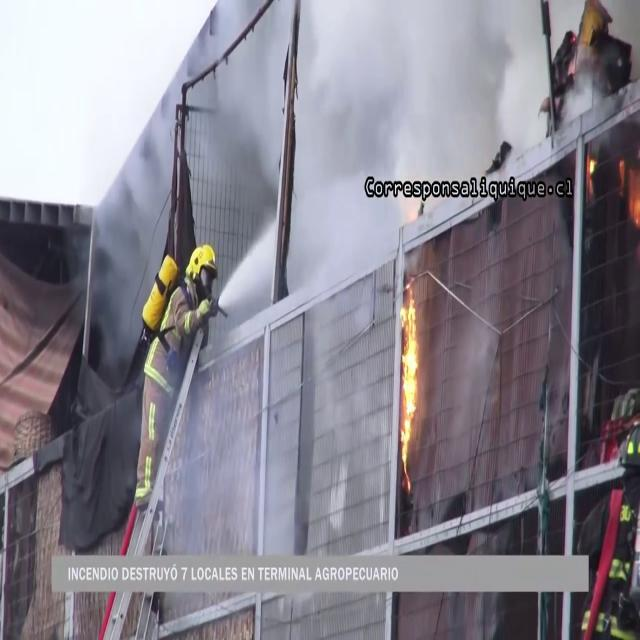Fire: (398, 278, 422, 482)
Smoke: (278, 4, 556, 272)
